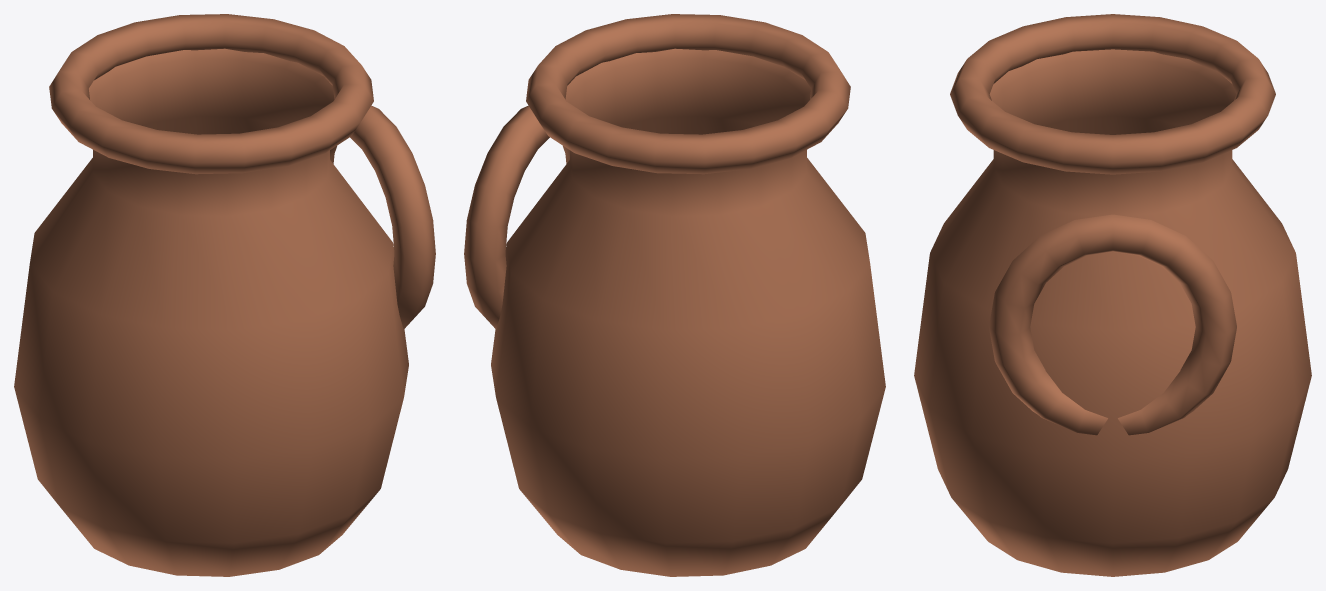
Rendered from water_jar.glb.
3 views of the same model, side by side, from view 1: azimuth 30°, elevation 25°; view 2: azimuth 150°, elevation 25°; view 3: azimuth 270°, elevation 25° (orthographic).
Parts seen in each view (by area): view 1: batch_jar_0; view 2: batch_jar_0; view 3: batch_jar_0.
Part boxes in pixels (x1,y1,x2,y2): batch_jar_0: [14, 14, 435, 576]; batch_jar_0: [464, 14, 885, 576]; batch_jar_0: [914, 14, 1311, 576].
Size of the model in its own units: 0.5 by 0.6117 by 0.5.
